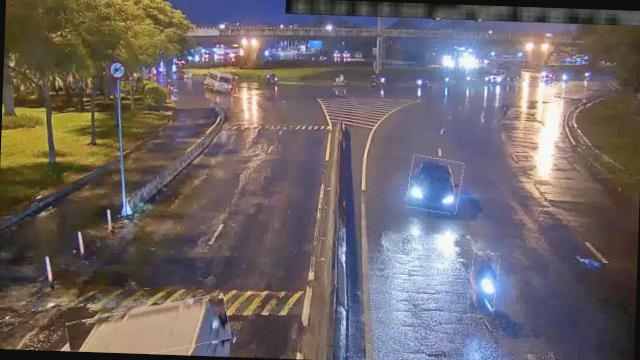Bike: (468, 252, 498, 316)
Bus: (66, 296, 232, 356), (206, 72, 236, 92)
Car: (406, 156, 462, 213)
